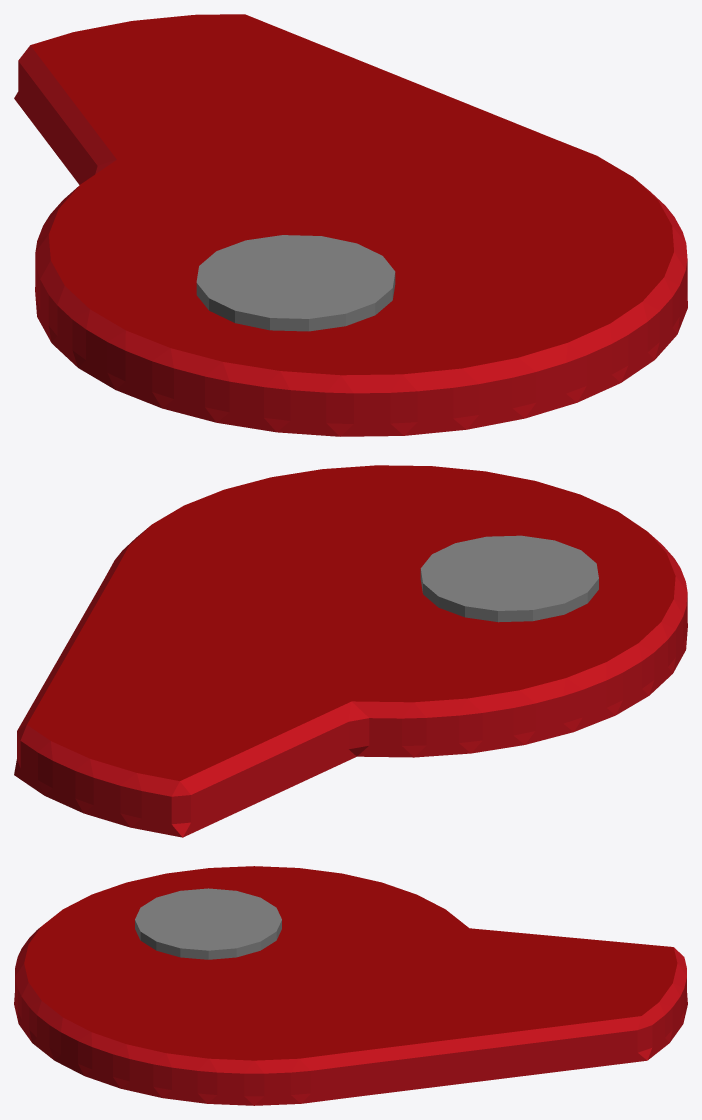
The model's file is Meat.fbx.
3 views of the same model, one above another, from view 1: azimuth 30°, elevation 25°; view 2: azimuth 150°, elevation 25°; view 3: azimuth 270°, elevation 25° (orthographic). The views are drawn at different scales.
Visible parts, largest first — view 1: Circle; view 2: Circle; view 3: Circle.
Part boxes in pixels (x1,y1,x2,y2): Circle: (14, 14, 687, 436); Circle: (14, 465, 687, 837); Circle: (14, 866, 687, 1105).
Size of the model in its own units: 70.8 by 8.14 by 99.31.
